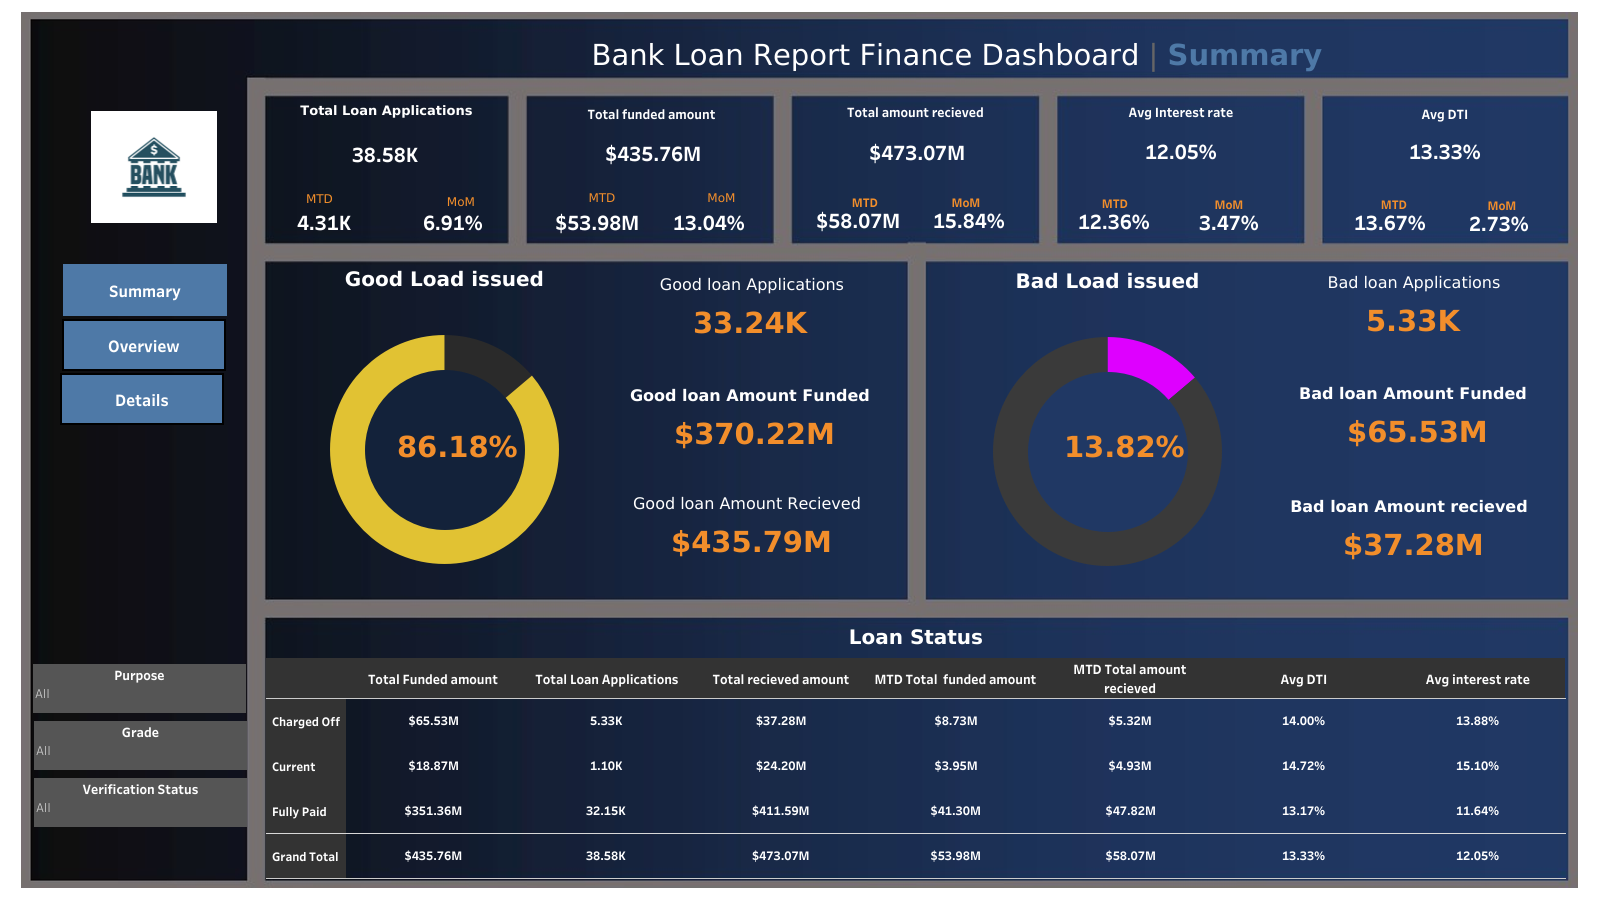

The page's visual inventory and layout, read from the dashboard file:
{"tool":"tableau","page":{"name":"Summary","canvas":[1600,900],"ordinal":2},"visuals":[{"type":"image","param":"Image/Tableau Background 1.jpg","box":[8,8,1584,884]},{"type":"text","box":[461.1,27,992,55.5]},{"type":"worksheet","title":"Total Loan Applications","mark":"Automatic","box":[265,96,243,84]},{"type":"worksheet","title":"Total amount recieved","mark":"Automatic","box":[792,96,247,79]},{"type":"worksheet","title":"Avg Interest rate","mark":"Automatic","box":[1058,96,246,76]},{"type":"worksheet","title":"Total funded amount","mark":"Automatic","box":[532,98,239,77]},{"type":"worksheet","title":"Avg DTI","mark":"Automatic","box":[1323,98,244,73]},{"type":"image","param":"Image/Untitled.png","box":[91,103,126,129]},{"type":"text","box":[563,182,78,30]},{"type":"text","box":[682.2,184.5,78.5,25.5]},{"type":"text","box":[280,186,79,25]},{"type":"text","box":[421.8,189,78.5,25.5]},{"type":"text","box":[815,192,100,19]},{"type":"text","box":[916,192,100,19]},{"type":"text","box":[1065,193,100,19]},{"type":"text","box":[1179,194,100,19]},{"type":"text","box":[1344,194,100,19]},{"type":"text","box":[1452,195,100,19]},{"type":"worksheet","title":"Month to date Total recieved amount ","mark":"Automatic","box":[791,198,131,45]},{"type":"worksheet","title":"Month on month recieved  amount","mark":"Automatic","box":[898,198,142,44]},{"type":"worksheet","title":"Month to date Avg interest rate","mark":"Automatic","box":[1058,198,113,46]},{"type":"worksheet","title":"Month on month Loan Applications","mark":"Automatic","box":[397,199,113,47]},{"type":"worksheet","title":"Month to date Total funded amount","mark":"Automatic","box":[526,201,140,42]},{"type":"worksheet","title":"Month on month funded amount","mark":"Automatic","box":[646,202,127,40]},{"type":"worksheet","title":"Month to date Avg DTI","mark":"Automatic","box":[1322,203,136,39]},{"type":"worksheet","title":"Month on month Avg interest rate","mark":"Automatic","box":[1157,204,145,36]},{"type":"worksheet","title":"Month to date Total Loan Applications","mark":"Automatic","box":[271,205,108,34]},{"type":"worksheet","title":"Month on month Avg interest rate (2)","mark":"Automatic","box":[1432,207,134,32]},{"type":"worksheet","title":"Good Load issued","mark":"Pie","rows":["Calculation_579838468241391617","Calculation_579838468241391617"],"box":[266,261,357,338]},{"type":"worksheet","title":"Bad Load issued ","mark":"Pie","rows":["Calculation_579838468241391617","Calculation_579838468241391617"],"box":[929,263,357,338]},{"type":"dashboard-object","box":[63,264,164,52]},{"type":"worksheet","title":"Bad loan Applications ","mark":"Automatic","box":[1264,267,300,75]},{"type":"worksheet","title":"Good loan Applications","mark":"Automatic","box":[602,269,300,75]},{"type":"dashboard-object","box":[62,319,164,52]},{"type":"dashboard-object","box":[60,373,164,52]},{"type":"worksheet","title":"Bad loan Amount Funded","mark":"Automatic","box":[1263,378,300,75]},{"type":"worksheet","title":"Good loan Amount Funded","mark":"Automatic","box":[600,380,300,75]},{"type":"worksheet","title":"Good Loan Application Percentage","mark":"Automatic","box":[386,396,143,102]},{"type":"worksheet","title":"Bad Loan Application Percentage","mark":"Automatic","box":[1060,400,130,94]},{"type":"worksheet","title":"Good loan Amount Recieved","mark":"Automatic","box":[597,488,300,75]},{"type":"worksheet","title":"Bad loan Amount recieved","mark":"Automatic","box":[1259,491,300,75]},{"type":"worksheet","title":"Loan Status","mark":"Automatic","rows":["loan_status"],"box":[266,619,1300,260]},{"type":"filter","title":"Good Load issued","param":"[federated.14ievtu05seqk316pjgtj1fu3us4].[none:purpose:nk]","box":[33,664,213,49]},{"type":"filter","title":"Good Load issued","param":"[federated.14ievtu05seqk316pjgtj1fu3us4].[none:grade:nk]","box":[34,721,213,49]},{"type":"filter","title":"Good Load issued","param":"[federated.14ievtu05seqk316pjgtj1fu3us4].[none:verification_status:nk]","box":[34,778,213,49]}]}

Visuals, with their boxes in screenshot pixels (x1, y1, x2, y2), scaled from the page's 1600x900 canvas onto the 1599x899 screenshot:
image: 8 8 1591 891
text: 461 27 1452 82
"Total Loan Applications" worksheet: 265 96 508 180
"Total amount recieved" worksheet: 792 96 1038 175
"Avg Interest rate" worksheet: 1057 96 1303 172
"Total funded amount" worksheet: 532 98 771 175
"Avg DTI" worksheet: 1322 98 1566 171
image: 91 103 217 232
text: 563 182 641 212
text: 682 184 760 210
text: 280 186 359 211
text: 422 189 500 214
text: 814 192 914 211
text: 915 192 1015 211
text: 1064 193 1164 212
text: 1178 194 1278 213
text: 1343 194 1443 213
text: 1451 195 1551 214
"Month to date Total recieved amount " worksheet: 791 198 921 243
"Month on month recieved  amount" worksheet: 897 198 1039 242
"Month to date Avg interest rate" worksheet: 1057 198 1170 244
"Month on month Loan Applications" worksheet: 397 199 510 246
"Month to date Total funded amount" worksheet: 526 201 666 243
"Month on month funded amount" worksheet: 646 202 773 242
"Month to date Avg DTI" worksheet: 1321 203 1457 242
"Month on month Avg interest rate" worksheet: 1156 204 1301 240
"Month to date Total Loan Applications" worksheet: 271 205 379 239
"Month on month Avg interest rate (2)" worksheet: 1431 207 1565 239
"Good Load issued" worksheet (Pie marks): 266 261 623 598
"Bad Load issued " worksheet (Pie marks): 928 263 1285 600
dashboard-object: 63 264 227 316
"Bad loan Applications " worksheet: 1263 267 1563 342
"Good loan Applications" worksheet: 602 269 901 344
dashboard-object: 62 319 226 371
dashboard-object: 60 373 224 425
"Bad loan Amount Funded" worksheet: 1262 378 1562 452
"Good loan Amount Funded" worksheet: 600 380 899 454
"Good Loan Application Percentage" worksheet: 386 396 529 497
"Bad Loan Application Percentage" worksheet: 1059 400 1189 493
"Good loan Amount Recieved" worksheet: 597 487 896 562
"Bad loan Amount recieved" worksheet: 1258 490 1558 565
"Loan Status" worksheet: 266 618 1565 878
"Good Load issued" filter: 33 663 246 712
"Good Load issued" filter: 34 720 247 769
"Good Load issued" filter: 34 777 247 826
